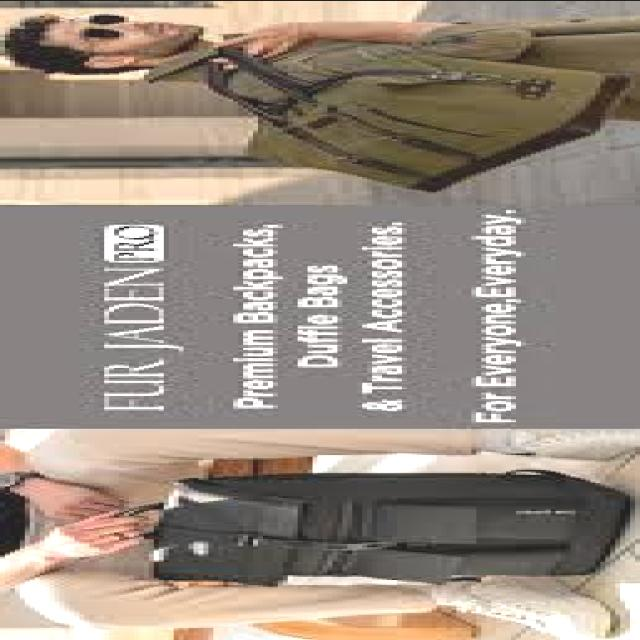backpack: (145, 470, 631, 589)
